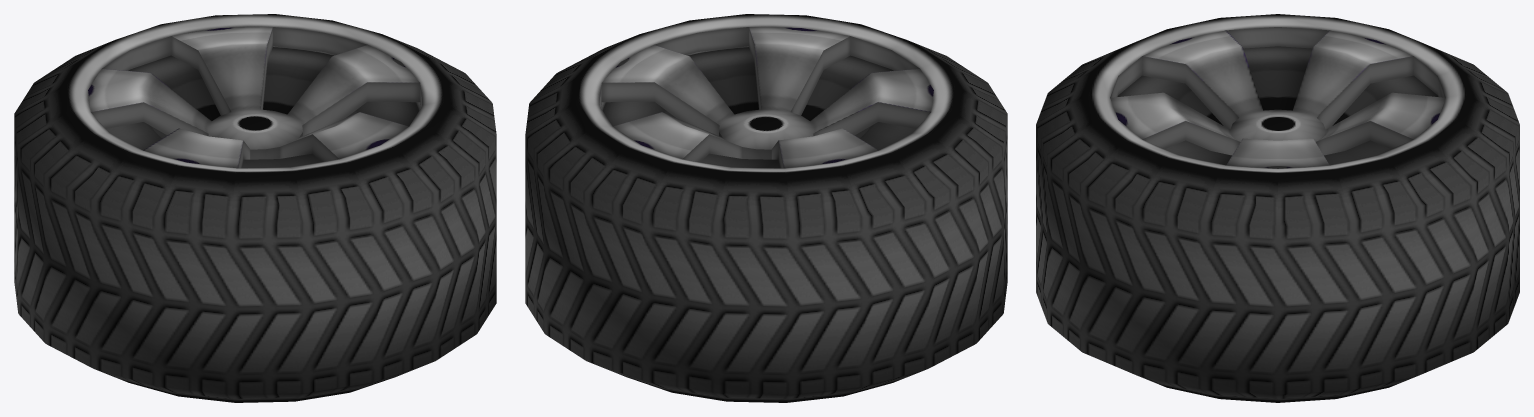
File: wheel2.fbx
3 renders of one model, left to right at view 1: azimuth 30°, elevation 25°; view 2: azimuth 150°, elevation 25°; view 3: azimuth 270°, elevation 25°, orthographic.
Parts seen in each view (by area): view 1: wheel_geo_fl; view 2: wheel_geo_fl; view 3: wheel_geo_fl.
Part boxes in pixels (left/top/right/bottom): wheel_geo_fl: left=14, top=14, right=496, bottom=402; wheel_geo_fl: left=525, top=14, right=1007, bottom=402; wheel_geo_fl: left=1036, top=14, right=1519, bottom=402.
Size of the model in its own units: 2 by 1.05 by 2.
